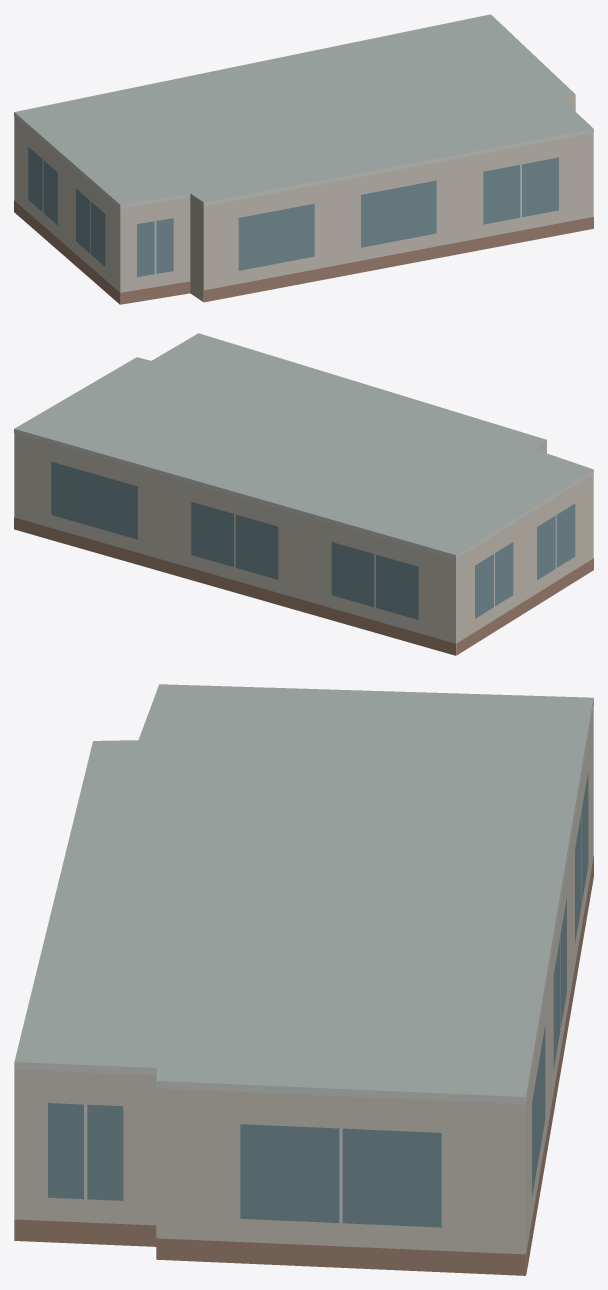
The model's file is survey-upis-32595451.glb.
3 views of the same model, one above another, from view 1: azimuth 30°, elevation 25°; view 2: azimuth 150°, elevation 25°; view 3: azimuth 270°, elevation 25° (orthographic). The views are drawn at different scales.
Parts seen in each view (by area): view 1: survey-upis-32595451.tmp; view 2: survey-upis-32595451.tmp; view 3: survey-upis-32595451.tmp.
Boxes of the visible parts, x1,y1,x2,y2 form: survey-upis-32595451.tmp: (14, 14, 593, 304); survey-upis-32595451.tmp: (14, 333, 593, 655); survey-upis-32595451.tmp: (14, 684, 593, 1275).
Bounding box in the file's own units: 15.12 × 3.05 × 8.97.
